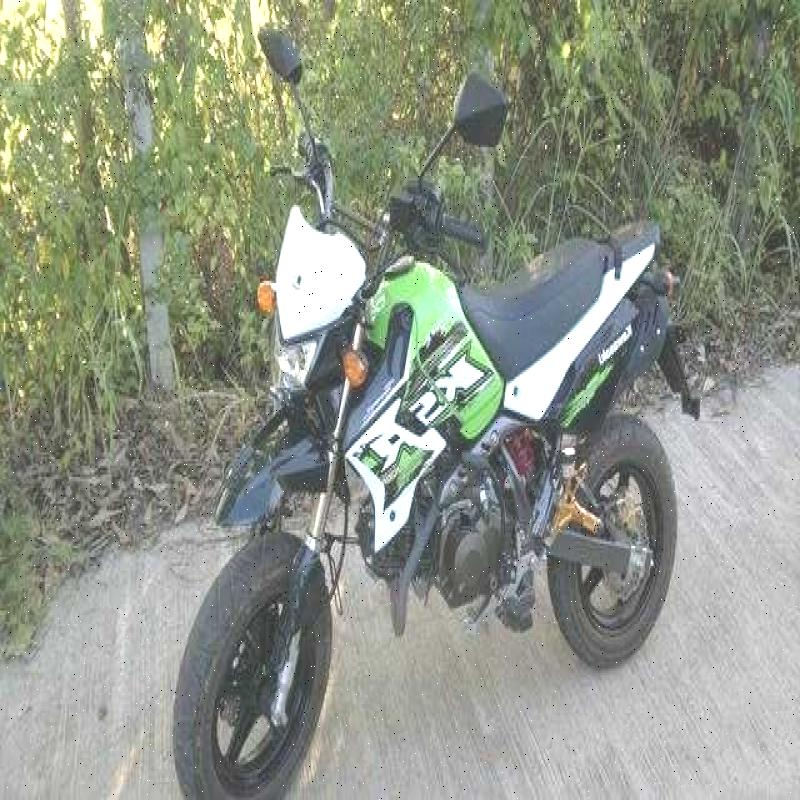bike: (163, 33, 683, 779)
